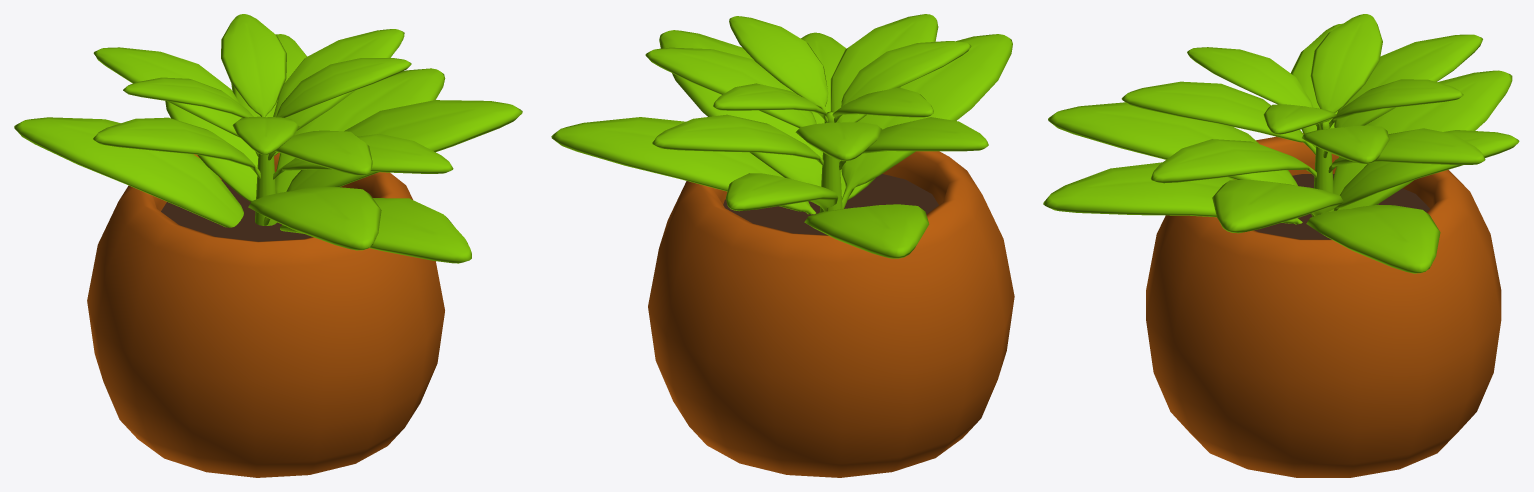
File: SM_succulent.glb
3 views of the same model, side by side, from view 1: azimuth 30°, elevation 25°; view 2: azimuth 150°, elevation 25°; view 3: azimuth 270°, elevation 25° (orthographic). The views are drawn at different scales.
Visible parts, largest first — view 1: SM_succulent; view 2: SM_succulent; view 3: SM_succulent.
Part boxes in pixels (left/top/right/bottom): SM_succulent: left=14, top=14, right=522, bottom=477; SM_succulent: left=551, top=14, right=1014, bottom=477; SM_succulent: left=1043, top=14, right=1519, bottom=477.
Bounding box in the file's own units: 0.2457 × 0.2167 × 0.2591.
Materials: 1 (1 with a texture image).
